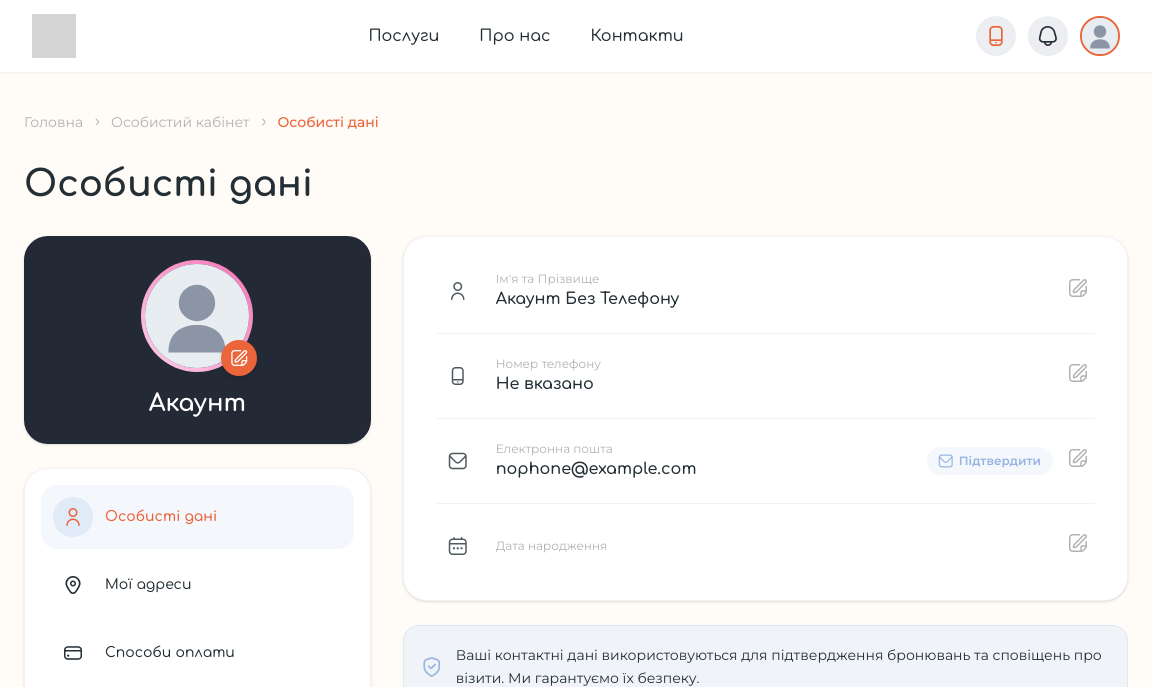
Test: PersonalDataPage › allows adding and editing phone number when account has no phone number set
expect the text "Не вказано" is shown: met, box [496, 375, 594, 393]
Click the button named "Редагувати Номер телефону" at (1078, 376), box [1061, 356, 1095, 396]
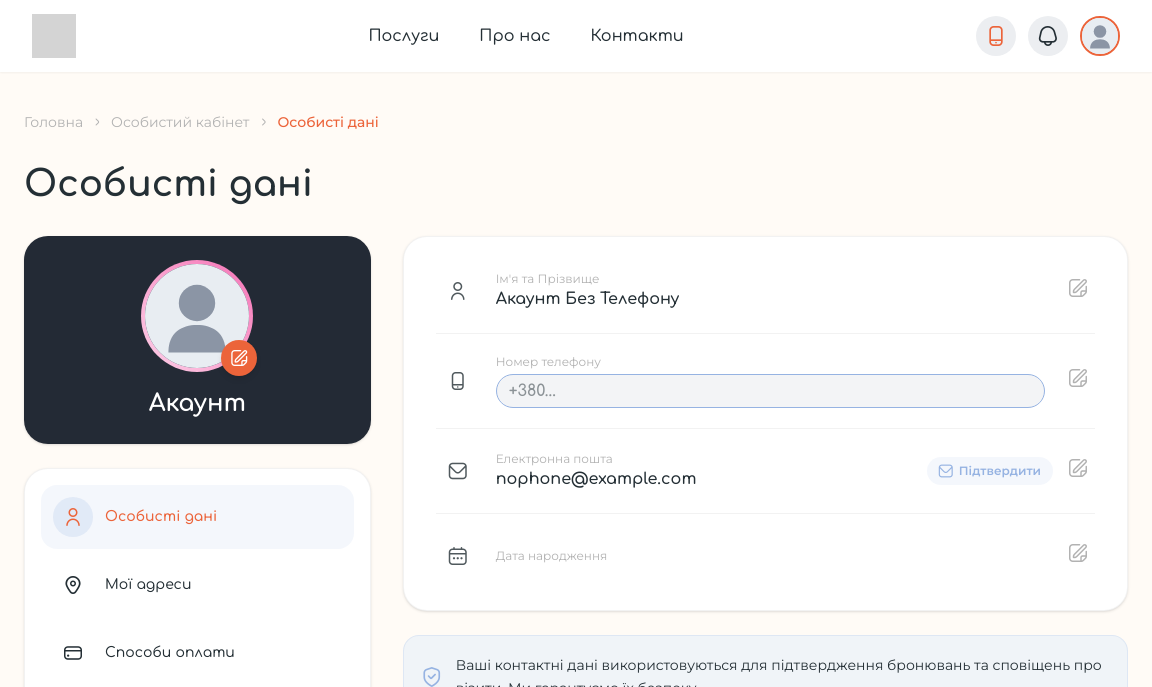
expect the field named "Номер телефону" is shown: met
Type "+380501234567" into the field named "Номер телефону" at (770, 391), box [496, 374, 1045, 408]
(page scrolled)
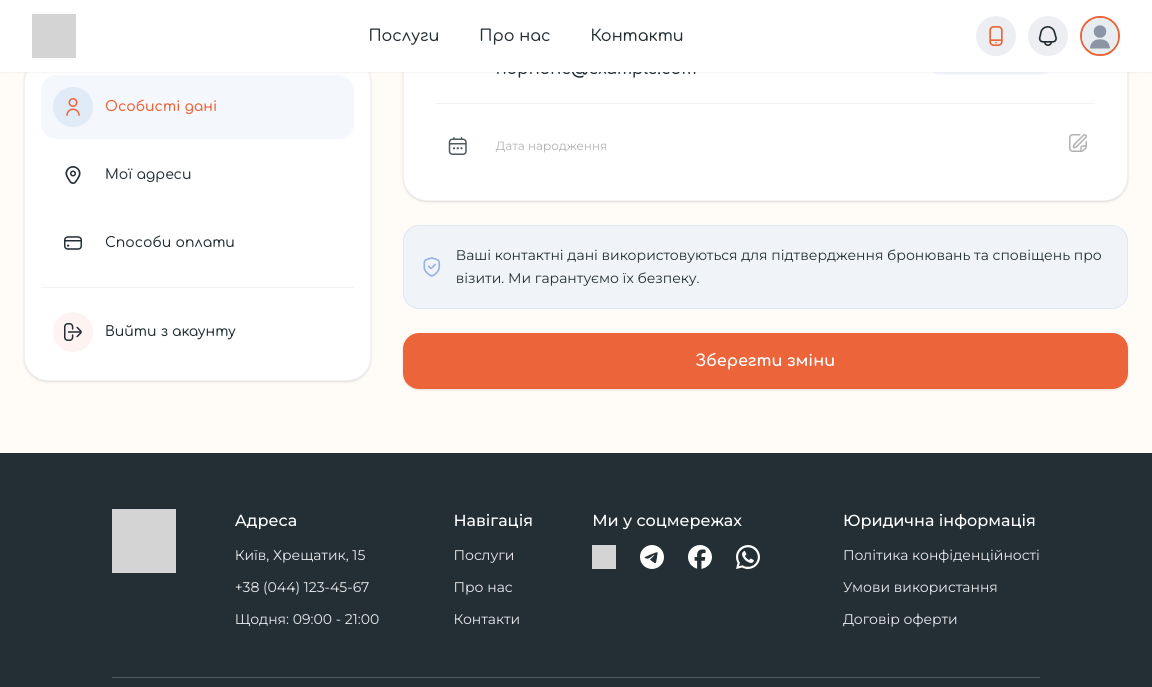
Click the button "Зберегти зміни" at (765, 360), box [403, 332, 1128, 388]
(page scrolled)
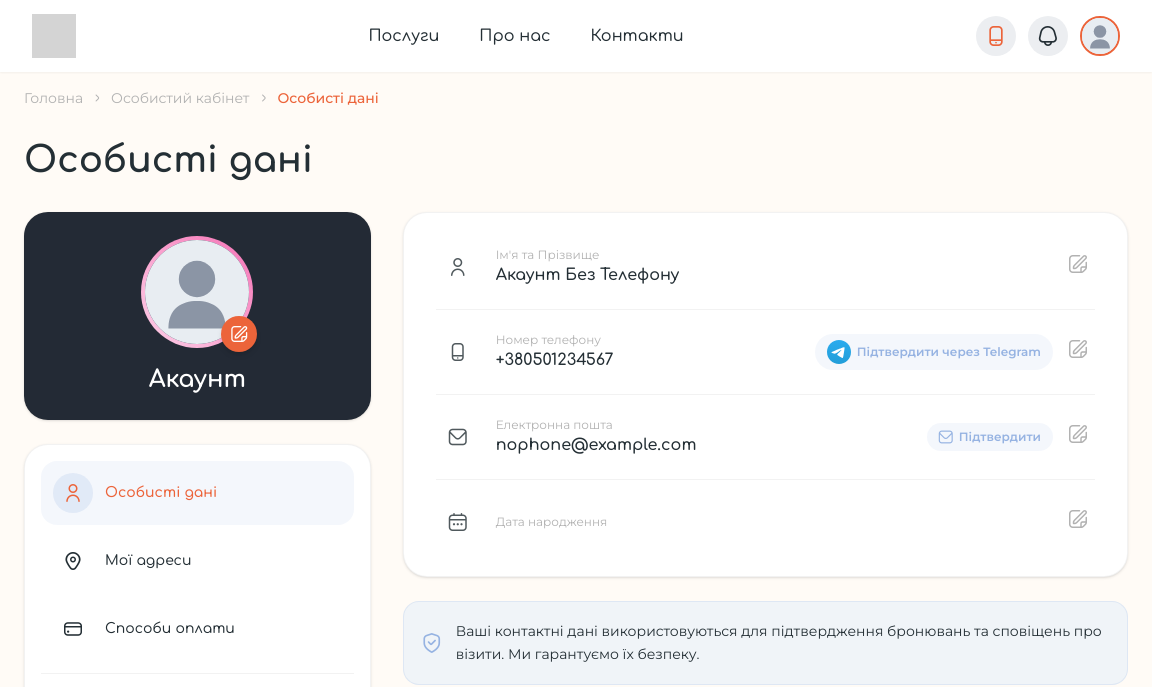
expect the text "+380501234567" is shown: met, box [496, 351, 613, 369]
